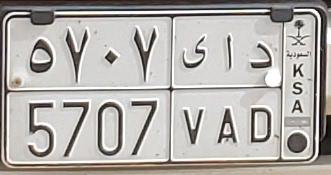0: (95, 45, 125, 156)
5: (27, 36, 59, 157)
7: (62, 26, 92, 159), (130, 25, 158, 157)
A: (215, 33, 240, 145)
D: (249, 40, 273, 143)
V: (181, 34, 208, 147)
